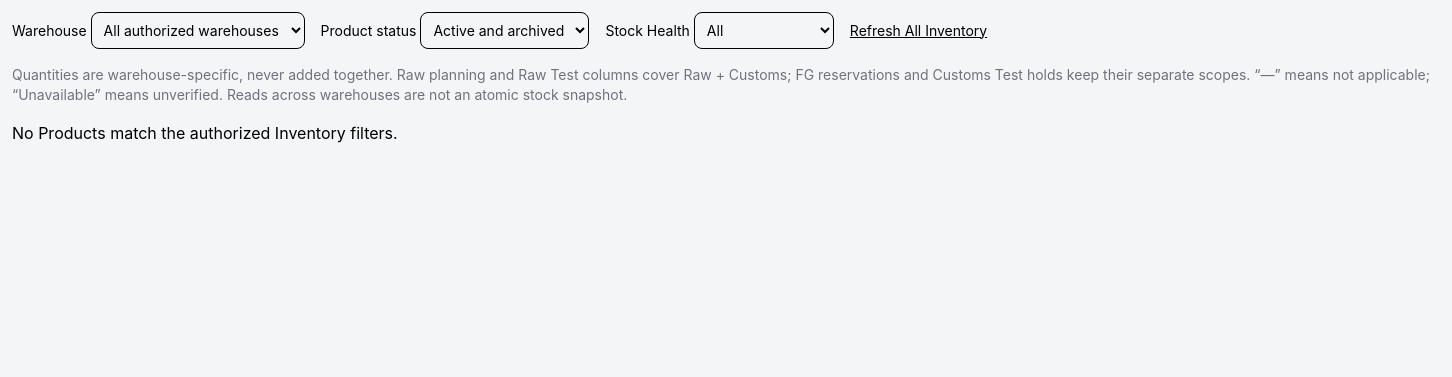
Test: All Inventory union table › distinguishes health without presenting fabricated zero
Select "Low Stock" in the dropdown labelled "Stock Health" at [764, 30], box [694,12,834,49]
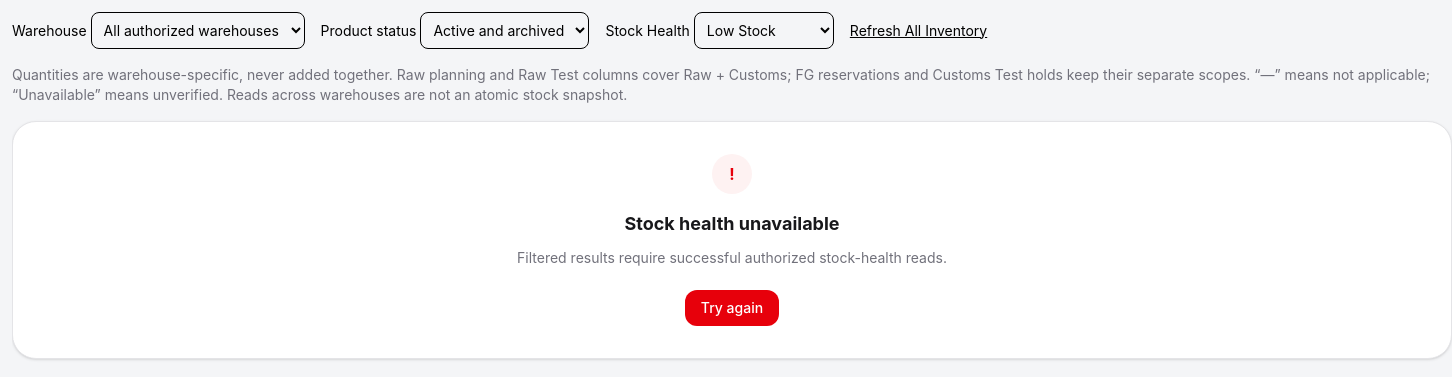
Expected: the heading "Stock health unavailable" is shown, [624,213,840,234]
